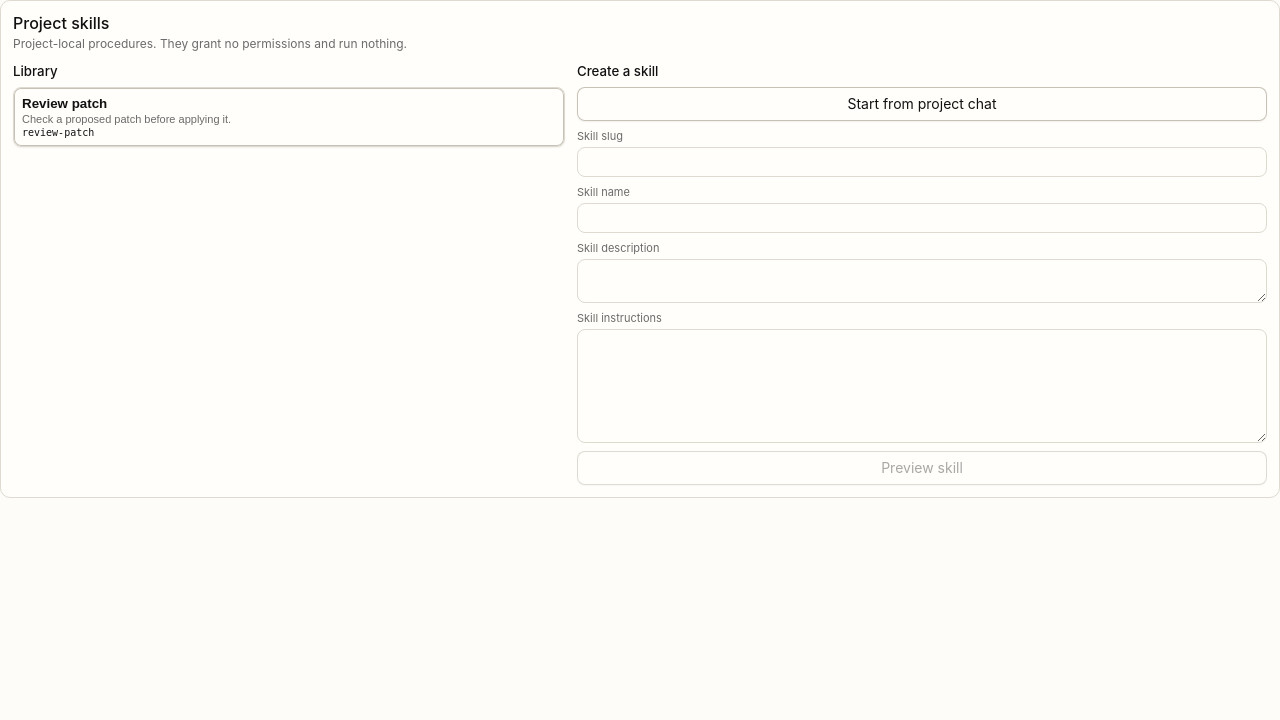
SkillsPanel › ignores a stale transcript load after a newer chat is selected
This screenshot has width=1280, height=720.
Click the button "Start from project chat". click: (922,104)
box: [577,87,1267,121]
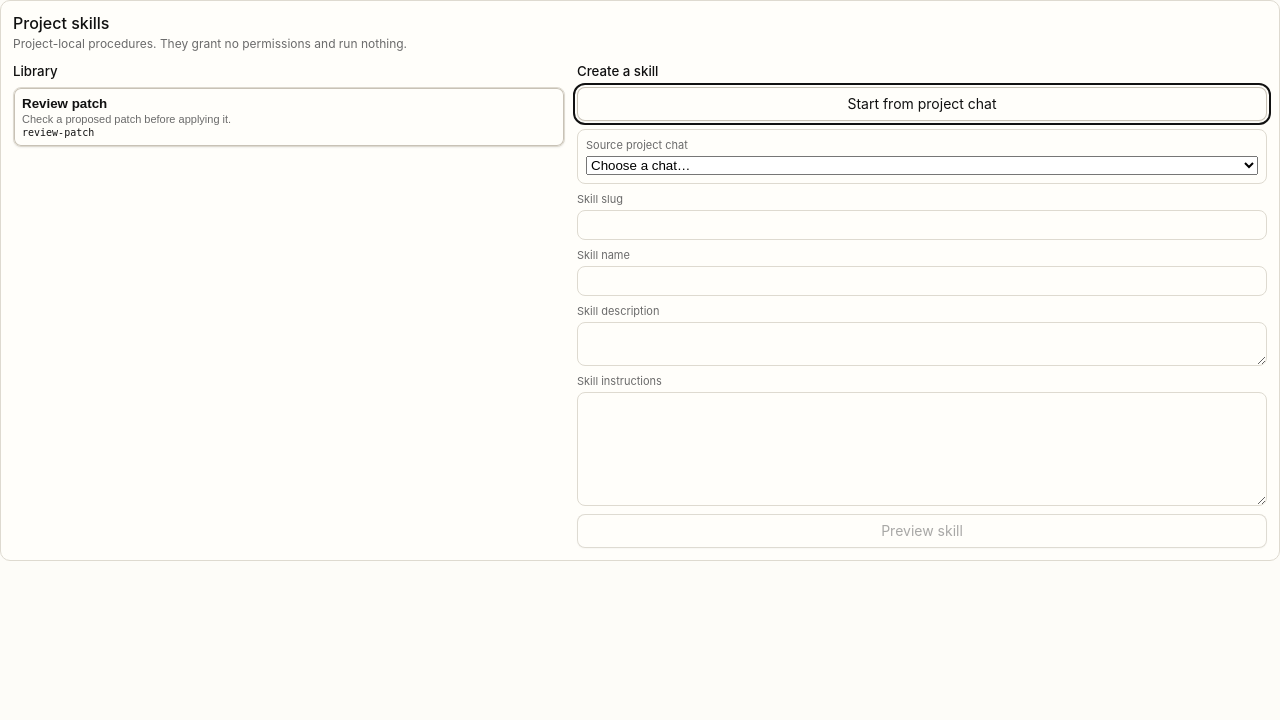
Select "Old chat" in the dropdown labelled "Source project chat". click: (922,166)
box: [586,156,1258,175]
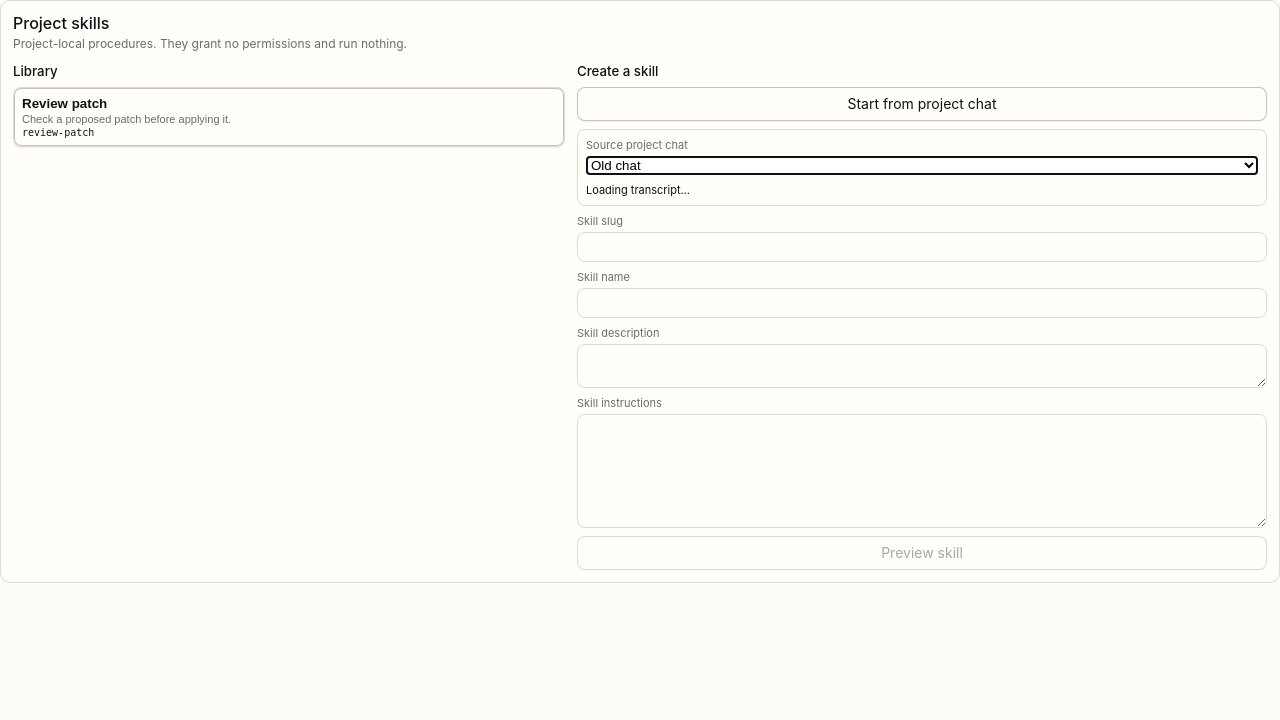
Select "New chat" in the dropdown labelled "Source project chat". click: (922,166)
box: [586,156,1258,175]
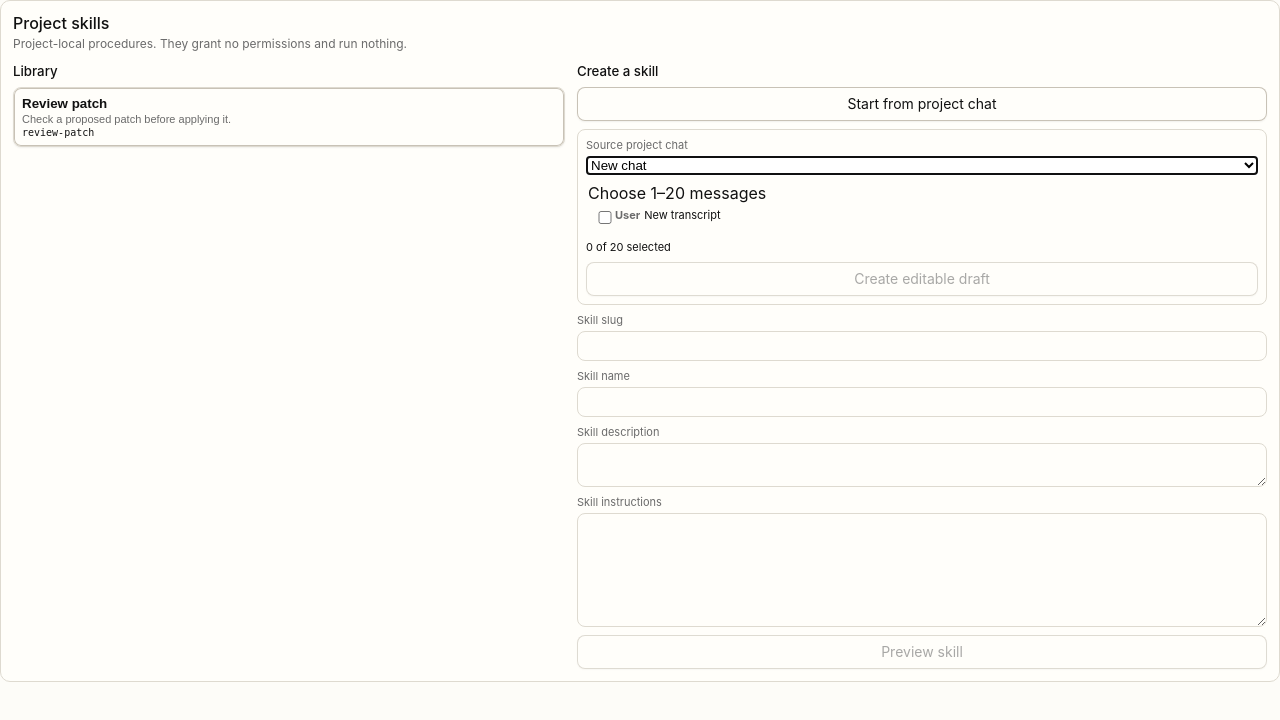
Expected: the checkbox labelled "User New transcript" is shown, [595,211,615,224]
